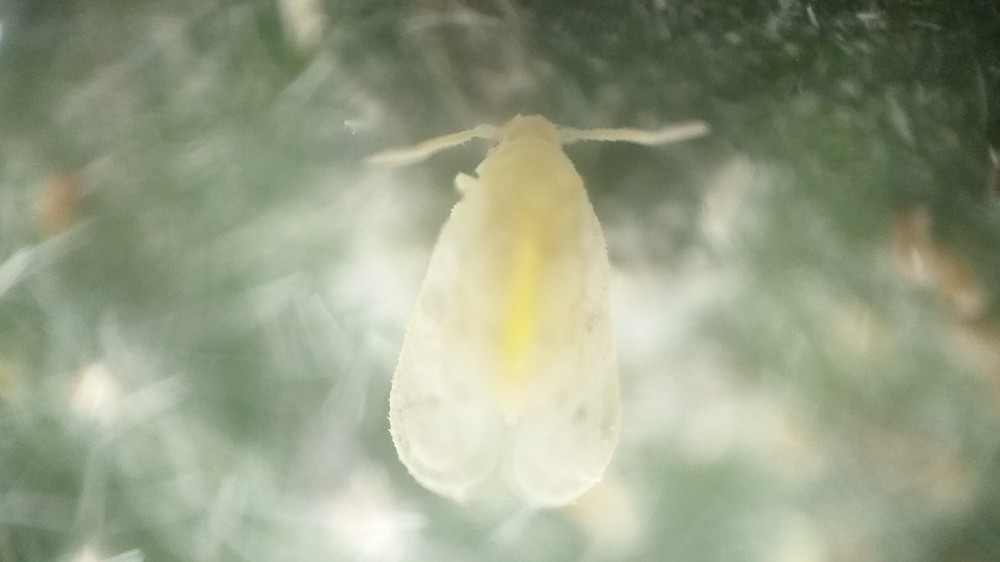Mosca Blanca: (333, 95, 730, 509)
